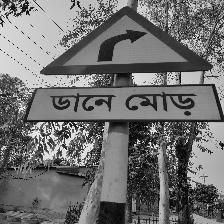Right-turn: (28, 4, 222, 124)
